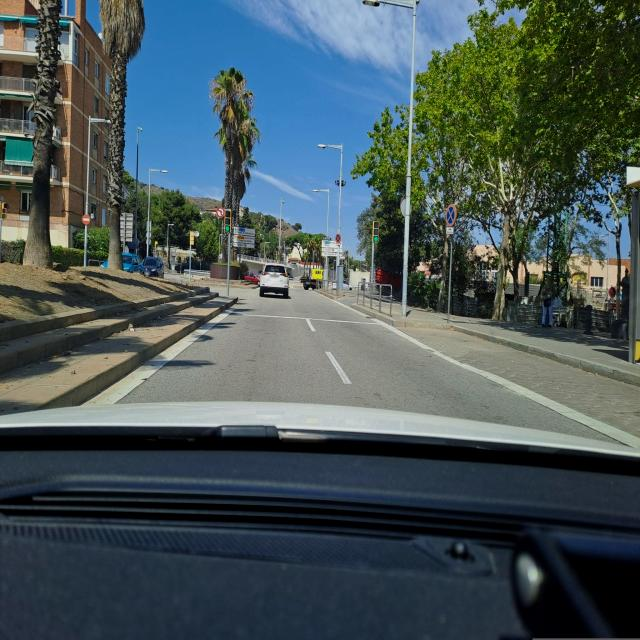car: (259, 262, 289, 298), (139, 257, 164, 277), (302, 278, 318, 290)
